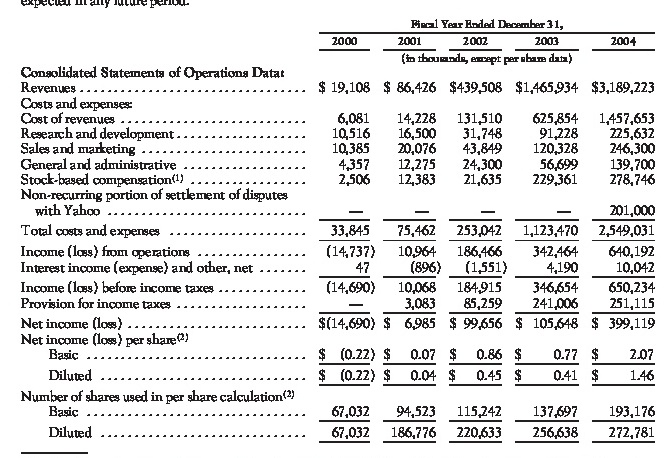table: (0, 0, 671, 458)
